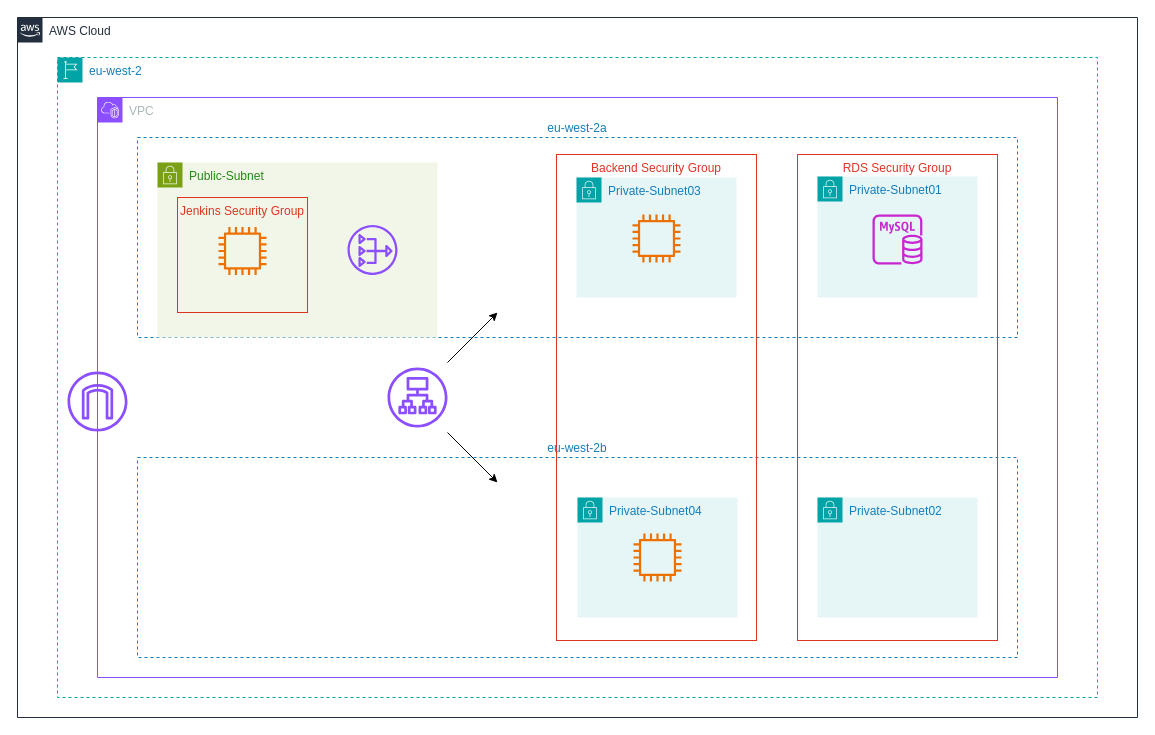
The diagram is 1155 pixels wide and 735 high, and some of its shapes have lost their labels. Here are the shapes that lost their labels. From the top down, the centre of each, then its label:
At (242,250): "Jenkins Server".
At (372,249): "NAT Gateway".
At (656,238): "Backend-1".
At (97,401): "Internet Gateway".
At (417,397): "Public ALB".
At (657,557): "Backend-2".
